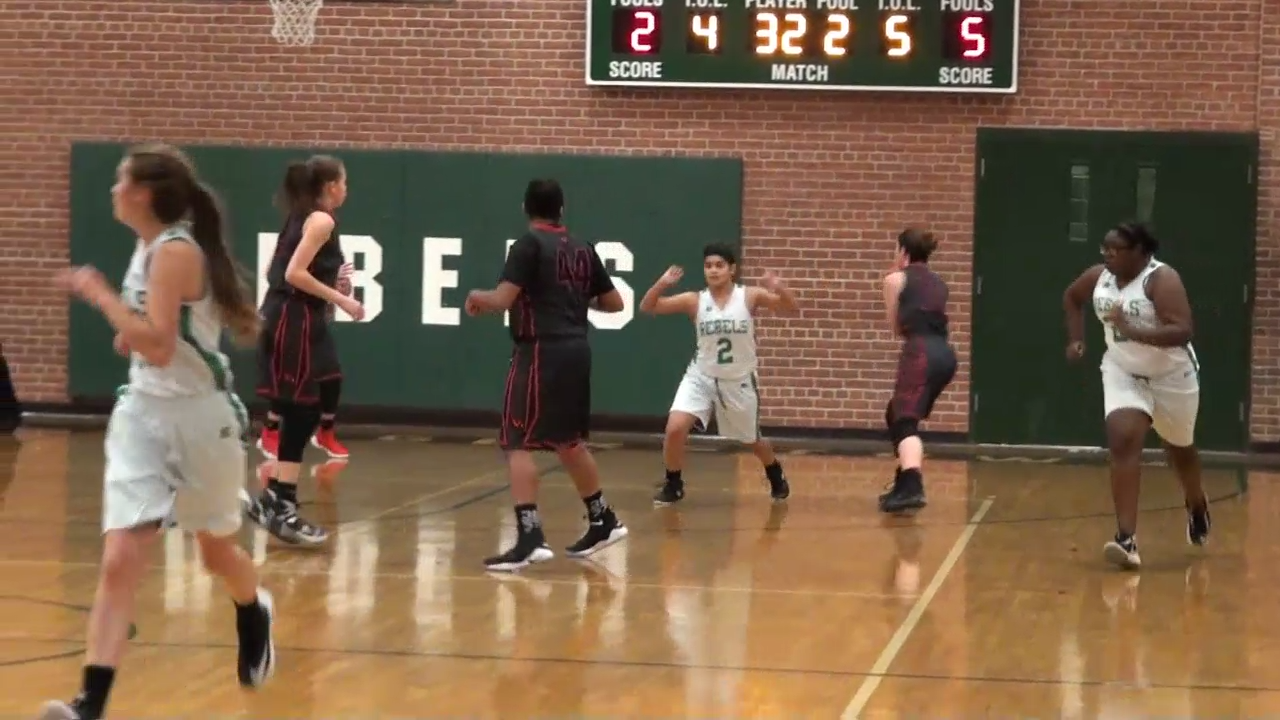basket: (266, 1, 330, 51)
player: (68, 151, 279, 714), (1048, 225, 1216, 561), (473, 176, 611, 581), (244, 154, 375, 541), (653, 244, 793, 499), (871, 227, 968, 511)
